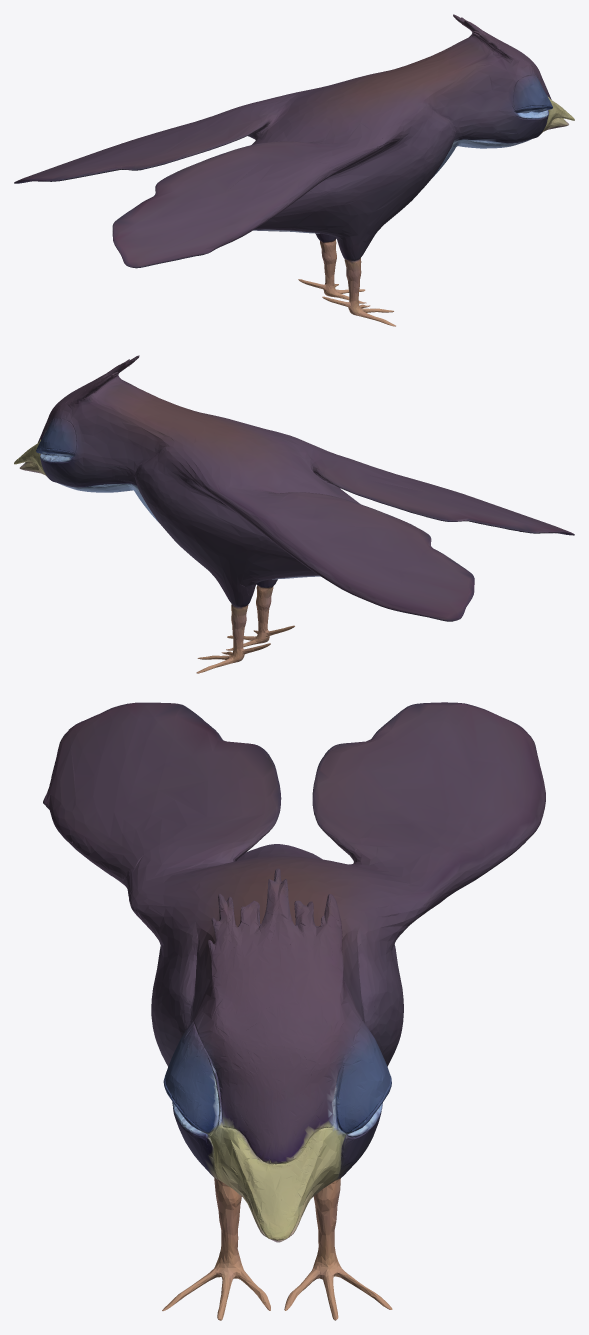
The model's file is bird.glb.
The picture shows the model from 3 angles, top to bottom: view 1: azimuth 30°, elevation 25°; view 2: azimuth 150°, elevation 25°; view 3: azimuth 270°, elevation 25°; orthographic projection. The views are drawn at different scales.
Visible parts, largest first — view 1: baola; view 2: baola; view 3: baola.
Boxes of the visible parts, x1=… form: baola: x1=14, y1=14, x2=574, y2=326; baola: x1=14, y1=355, x2=574, y2=673; baola: x1=43, y1=702, x2=545, y2=1320.
Bounding box in the file's own units: 0.9803 × 0.4974 × 0.4277.
